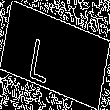L_N: (41, 27, 69, 83)
